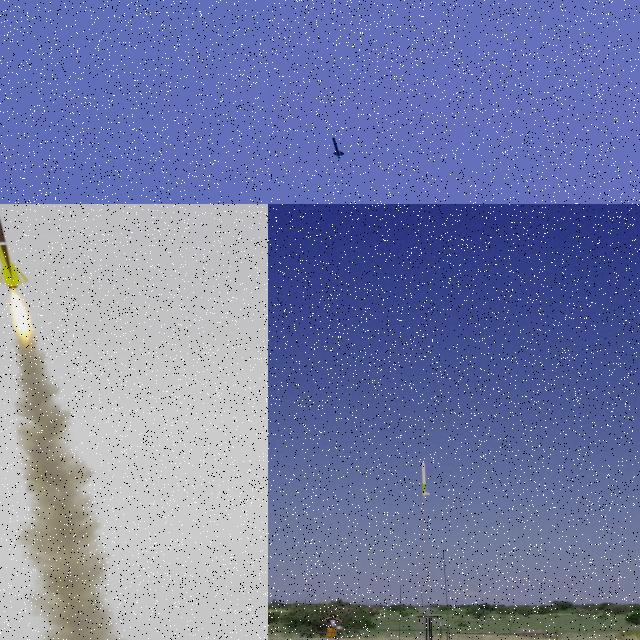Rocket: (0, 204, 29, 290), (418, 462, 431, 498), (330, 136, 346, 160)
